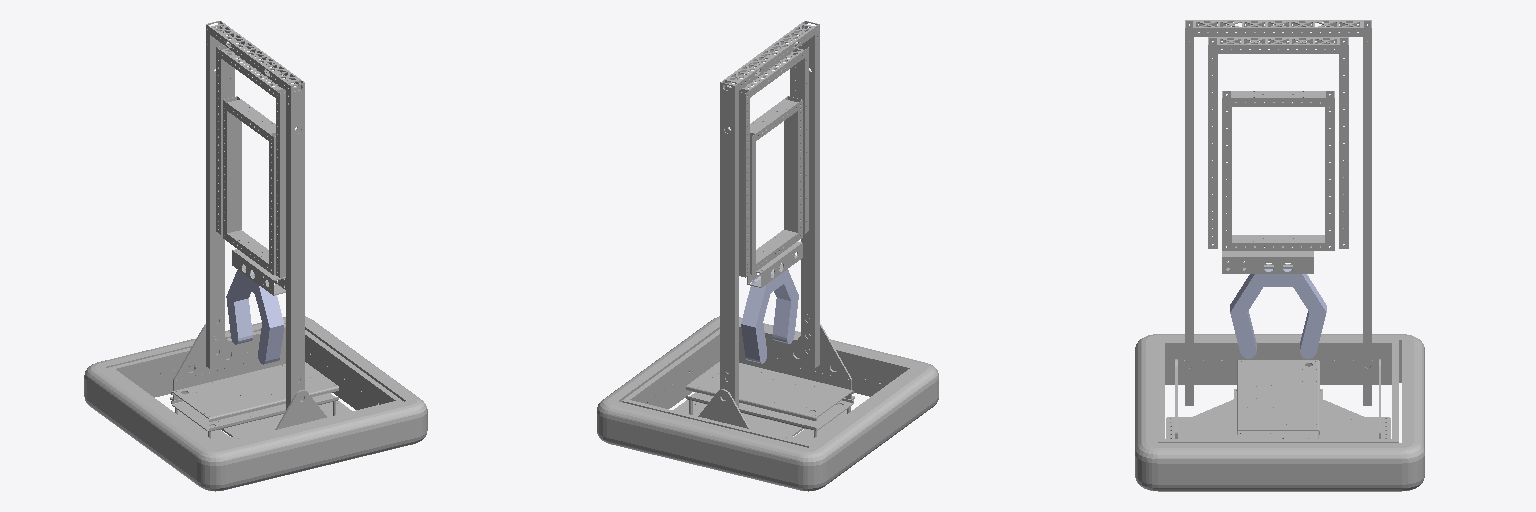
URDF robot description (knighttime_description_node):
<?xml version="1.0" encoding="utf-8"?>
<!-- This URDF was automatically created by SolidWorks to URDF Exporter! Originally created by [author] ([email redacted]) 
     Commit Version: 1.6.0-4-g7f85cfe  Build Version: 1.6.7995.38578
     For more information, please see http://wiki.ros.org/sw_urdf_exporter -->
<robot
  name="knighttime_description_node">
  <link
    name="base_link">
    <inertial>
      <origin
        xyz="0.00366793241853114 0.00290773096243199 0.109134760686588"
        rpy="0 0 0" />
      <mass
        value="32.0923334464686" />
      <inertia
        ixx="2.06184060721584"
        ixy="-7.05777391430098E-07"
        ixz="6.26290297112458E-05"
        iyy="2.08394577109497"
        iyz="1.14542931581927E-07"
        izz="4.06881788272179" />
    </inertial>
    <visual>
      <origin
        xyz="0 0 0"
        rpy="0 0 0" />
      <geometry>
        <mesh
          filename="package://knighttime_description_node/meshes/base_link.STL" />
      </geometry>
      <material
        name="">
        <color
          rgba="0.752941176470588 0.752941176470588 0.752941176470588 1" />
      </material>
    </visual>
    <collision>
      <origin
        xyz="0 0 0"
        rpy="0 0 0" />
      <geometry>
        <mesh
          filename="package://knighttime_description_node/meshes/base_link.STL" />
      </geometry>
    </collision>
  </link>
  <link
    name="main_mast_link">
    <inertial>
      <origin
        xyz="-2.70628044402652E-05 -1.00257680477884E-06 0.521428558641285"
        rpy="0 0 0" />
      <mass
        value="2.92736446099125" />
      <inertia
        ixx="0.274890730497369"
        ixy="2.66961538184854E-10"
        ixz="-0.000103752206462548"
        iyy="0.270183568469711"
        iyz="-1.14496399034325E-06"
        izz="0.00661869007722592" />
    </inertial>
    <visual>
      <origin
        xyz="0 0 0"
        rpy="0 0 0" />
      <geometry>
        <mesh
          filename="package://knighttime_description_node/meshes/main_mast_link.STL" />
      </geometry>
      <material
        name="">
        <color
          rgba="0.752941176470588 0.752941176470588 0.752941176470588 1" />
      </material>
    </visual>
    <collision>
      <origin
        xyz="0 0 0"
        rpy="0 0 0" />
      <geometry>
        <mesh
          filename="package://knighttime_description_node/meshes/main_mast_link.STL" />
      </geometry>
    </collision>
  </link>
  <joint
    name="main_mast_joint"
    type="revolute">
    <origin
      xyz="0 0 0.24511"
      rpy="0 0 0" />
    <parent
      link="base_link" />
    <child
      link="main_mast_link" />
    <axis
      xyz="0 1 0" />
    <limit
      lower="-1.57"
      upper="1.57"
      effort="0"
      velocity="2.856" />
  </joint>
  <link
    name="second_stage">
    <inertial>
      <origin
        xyz="7.70983966387504E-15 2.31820571844935E-16 -0.15759287302501"
        rpy="0 0 0" />
      <mass
        value="0.718426036319629" />
      <inertia
        ixx="0.019632892367688"
        ixy="-4.25439758276834E-18"
        ixz="-5.64533309845954E-18"
        iyy="0.0187259617907217"
        iyz="-1.77455129012324E-18"
        izz="0.00141734865923851" />
    </inertial>
    <visual>
      <origin
        xyz="0 0 0"
        rpy="0 0 0" />
      <geometry>
        <mesh
          filename="package://knighttime_description_node/meshes/second_stage.STL" />
      </geometry>
      <material
        name="">
        <color
          rgba="0.752941176470588 0.752941176470588 0.752941176470588 1" />
      </material>
    </visual>
    <collision>
      <origin
        xyz="0 0 0"
        rpy="0 0 0" />
      <geometry>
        <mesh
          filename="package://knighttime_description_node/meshes/second_stage.STL" />
      </geometry>
    </collision>
  </link>
  <joint
    name="second_stage_joint"
    type="revolute">
    <origin
      xyz="0 0 0.8763"
      rpy="0 0 0" />
    <parent
      link="main_mast_link" />
    <child
      link="second_stage" />
    <axis
      xyz="0 -1 0" />
    <limit
      lower="-2.70526"
      upper="2.70526"
      effort="0"
      velocity="3.06796" />
  </joint>
  <link
    name="extension_link">
    <inertial>
      <origin
        xyz="0.228639006630954 4.10951606344374E-16 -2.47752720756047E-17"
        rpy="0 0 0" />
      <mass
        value="0.706844425336657" />
      <inertia
        ixx="0.00164163492180235"
        ixy="8.81973843263766E-19"
        ixz="-3.44160349526033E-19"
        iyy="0.00821970281046067"
        iyz="-1.94538882516496E-19"
        izz="0.0093859384857373" />
    </inertial>
    <visual>
      <origin
        xyz="0 0 0"
        rpy="0 0 0" />
      <geometry>
        <mesh
          filename="package://knighttime_description_node/meshes/extension_link.STL" />
      </geometry>
      <material
        name="">
        <color
          rgba="0.752941176470588 0.752941176470588 0.752941176470588 1" />
      </material>
    </visual>
    <collision>
      <origin
        xyz="0 0 0"
        rpy="0 0 0" />
      <geometry>
        <mesh
          filename="package://knighttime_description_node/meshes/extension_link.STL" />
      </geometry>
    </collision>
  </link>
  <joint
    name="extension_joint"
    type="prismatic">
    <origin
      xyz="0 0 -0.0571499999999991"
      rpy="0 1.5707963267949 0" />
    <parent
      link="second_stage" />
    <child
      link="extension_link" />
    <axis
      xyz="1 0 0" />
    <limit
      lower="0"
      upper="0.3048"
      effort="0"
      velocity="0" />
  </joint>
  <link
    name="claw_box_link">
    <inertial>
      <origin
        xyz="-0.028193448806546 -0.0317575451403042 -0.000817567157003651"
        rpy="0 0 0" />
      <mass
        value="0.339591854364122" />
      <inertia
        ixx="0.00199990060587769"
        ixy="3.01262381790949E-05"
        ixz="8.11787156454798E-06"
        iyy="0.000259292745532175"
        iyz="1.23194460807444E-05"
        izz="0.00199608581500413" />
    </inertial>
    <visual>
      <origin
        xyz="0 0 0"
        rpy="0 0 0" />
      <geometry>
        <mesh
          filename="package://knighttime_description_node/meshes/claw_box_link.STL" />
      </geometry>
      <material
        name="">
        <color
          rgba="0.752941176470588 0.752941176470588 0.752941176470588 1" />
      </material>
    </visual>
    <collision>
      <origin
        xyz="0 0 0"
        rpy="0 0 0" />
      <geometry>
        <mesh
          filename="package://knighttime_description_node/meshes/claw_box_link.STL" />
      </geometry>
    </collision>
  </link>
  <joint
    name="claw_box_joint"
    type="fixed">
    <origin
      xyz="0.524611600000001 0 0"
      rpy="0 0 0" />
    <parent
      link="extension_link" />
    <child
      link="claw_box_link" />
    <axis
      xyz="0 1 0" />
    <limit
      lower="-1"
      upper="1"
      effort="0"
      velocity="0" />
  </joint>
  <link
    name="claw_link">
    <inertial>
      <origin
        xyz="0.115410284736902 4.01466852052012E-17 -1.20896937583458E-15"
        rpy="0 0 0" />
      <mass
        value="1.28711297687921" />
      <inertia
        ixx="0.00910861016146812"
        ixy="-3.43107439436541E-18"
        ixz="7.32634678938271E-17"
        iyy="0.0074781965707642"
        iyz="-2.38187194107209E-17"
        izz="0.0160332108601234" />
    </inertial>
    <visual>
      <origin
        xyz="0 0 0"
        rpy="0 0 0" />
      <geometry>
        <mesh
          filename="package://knighttime_description_node/meshes/claw_link.STL" />
      </geometry>
      <material
        name="">
        <color
          rgba="0.792156862745098 0.819607843137255 0.933333333333333 1" />
      </material>
    </visual>
    <collision>
      <origin
        xyz="0 0 0"
        rpy="0 0 0" />
      <geometry>
        <mesh
          filename="package://knighttime_description_node/meshes/claw_link.STL" />
      </geometry>
    </collision>
  </link>
  <joint
    name="claw_joint"
    type="fixed">
    <origin
      xyz="0 0 0"
      rpy="0 0 0" />
    <parent
      link="claw_box_link" />
    <child
      link="claw_link" />
    <axis
      xyz="0 1 0" />
    <limit
      lower="-1.57"
      upper="1.57"
      effort="0"
      velocity="0" />
  </joint>
</robot>

--- Render facts (derived) ---
Views: 3 orthographic renders of the robot side by side, from view 1: azimuth 30°, elevation 25°; view 2: azimuth 150°, elevation 25°; view 3: azimuth 270°, elevation 25°.
Model knighttime_description_node with 6 links and 5 joints (2 revolute, 1 prismatic, 2 fixed), rooted at base_link, posed every joint at zero.
Links seen in each view (by area): view 1: base_link, main_mast_link, extension_link, second_stage, claw_link, claw_box_link; view 2: base_link, main_mast_link, extension_link, second_stage, claw_link, claw_box_link; view 3: base_link, main_mast_link, second_stage, extension_link, claw_link, claw_box_link.
Boxes of the visible links, x1,y1,x2,y2 form: base_link: [84, 316, 427, 491]; main_mast_link: [206, 21, 304, 409]; extension_link: [223, 96, 275, 274]; second_stage: [216, 45, 294, 277]; claw_link: [226, 270, 284, 364]; claw_box_link: [232, 249, 285, 295]; base_link: [597, 316, 938, 491]; main_mast_link: [720, 21, 819, 407]; extension_link: [750, 96, 802, 274]; second_stage: [739, 45, 808, 277]; claw_link: [741, 269, 798, 363]; claw_box_link: [747, 241, 802, 287]; base_link: [1135, 334, 1424, 491]; main_mast_link: [1185, 20, 1371, 405]; second_stage: [1208, 37, 1348, 248]; extension_link: [1222, 91, 1334, 250]; claw_link: [1230, 269, 1326, 358]; claw_box_link: [1222, 251, 1313, 273].
Bounding box of the posed robot: 0.7874 × 0.7874 × 1.24 m (x, y, z).
Meshes: 6 distinct files referenced, 6 mesh visuals loaded (6 binary STL).